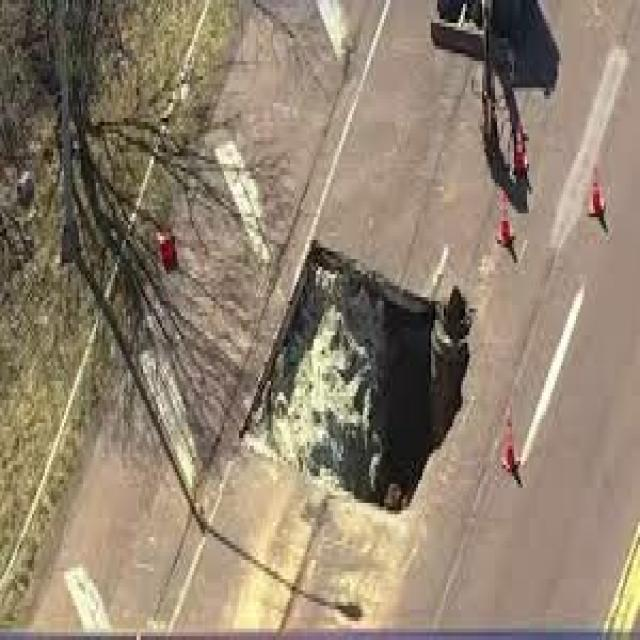Pothole: (235, 241, 477, 520)
